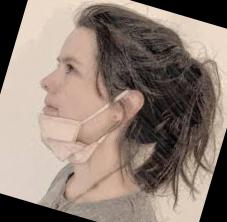mask_weared_incorrect: (19, 36, 109, 169)
